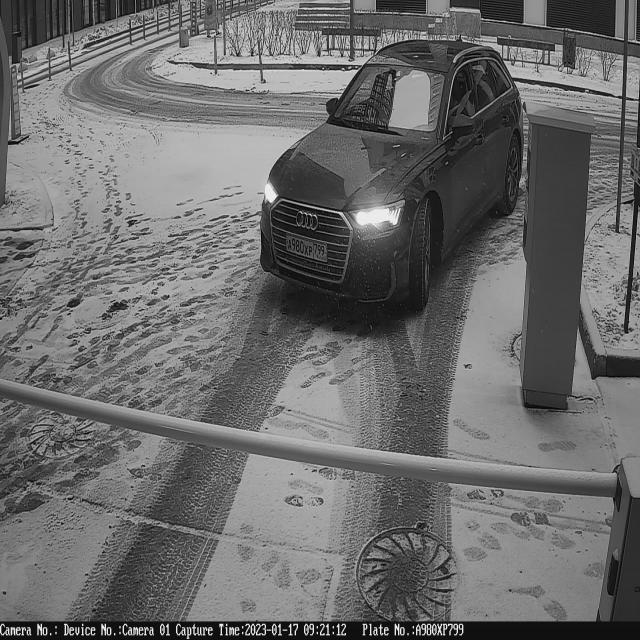car-plate-numbers: (282, 231, 332, 275)
